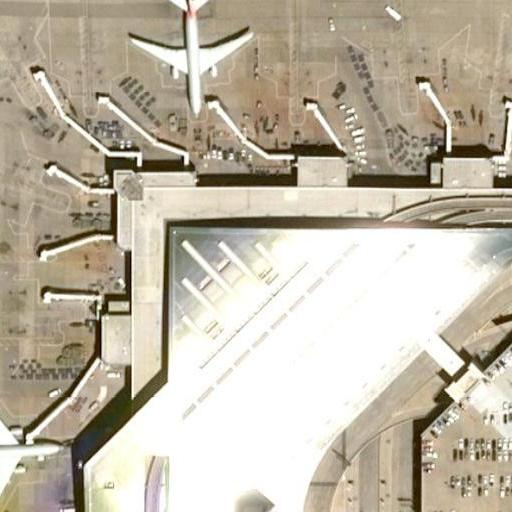Aircraft: (120, 0, 256, 115), (0, 388, 60, 502)
